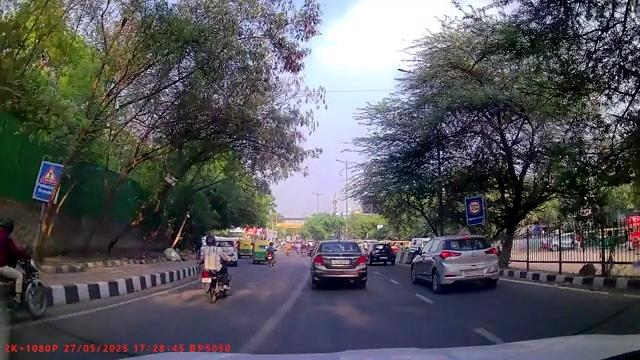motorcycle_with_helmet: (200, 232, 232, 304)
